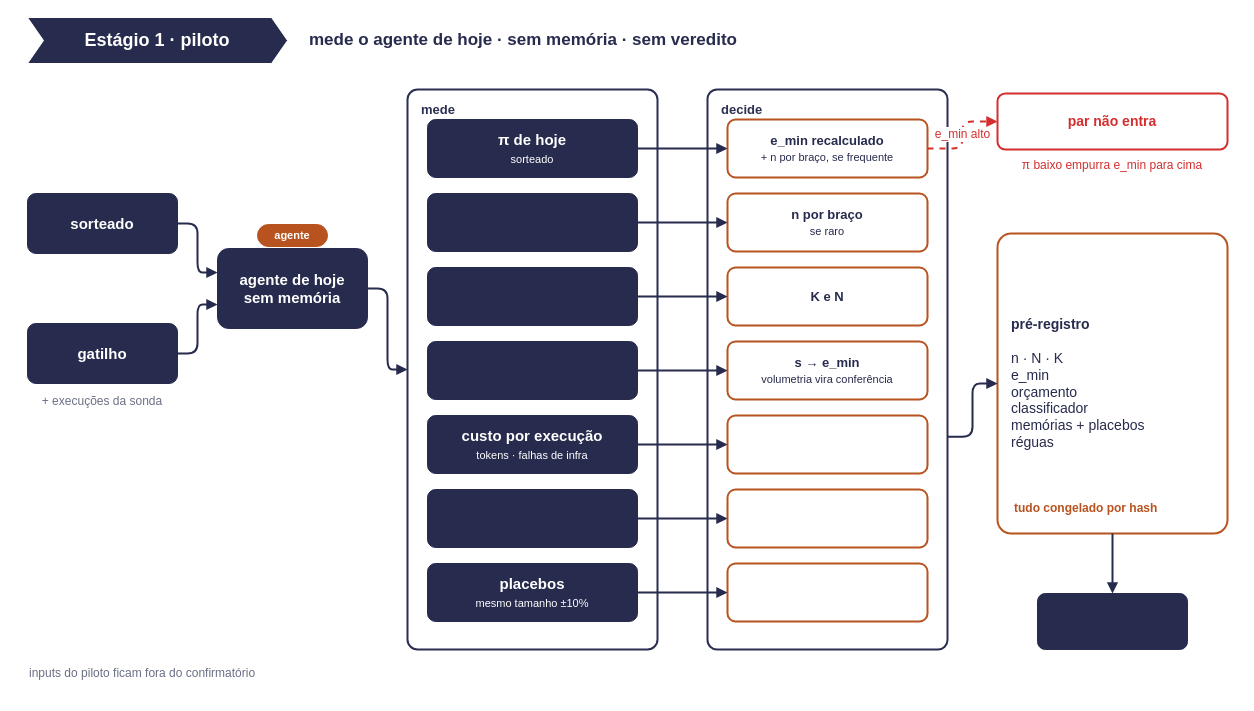
The diagram is 1254 pixels wide and 711 high, and some of its shapes have lost their labels. Each missing label, with the centre of its shape:
"classificador 30 + 30 · 2 leitores + gate humano" belongs at (532,518).
"orçamento" belongs at (827,444).
"p gatilho" belongs at (532,222).
"s de hoje passo com erro · mesmas execuções" belongs at (532,370).
"sensibilidade · precisão → congela" belongs at (827,518).
"texto aprovado pelo pesquisador" belongs at (827,592).
"ρ nos dois" belongs at (532,296).
"→ confirmatório" belongs at (1112,621).
